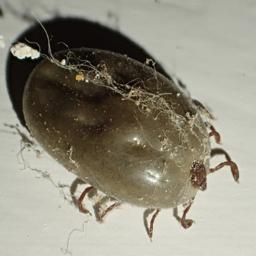Rhipicephalus sanguineus: (23, 47, 239, 240)
